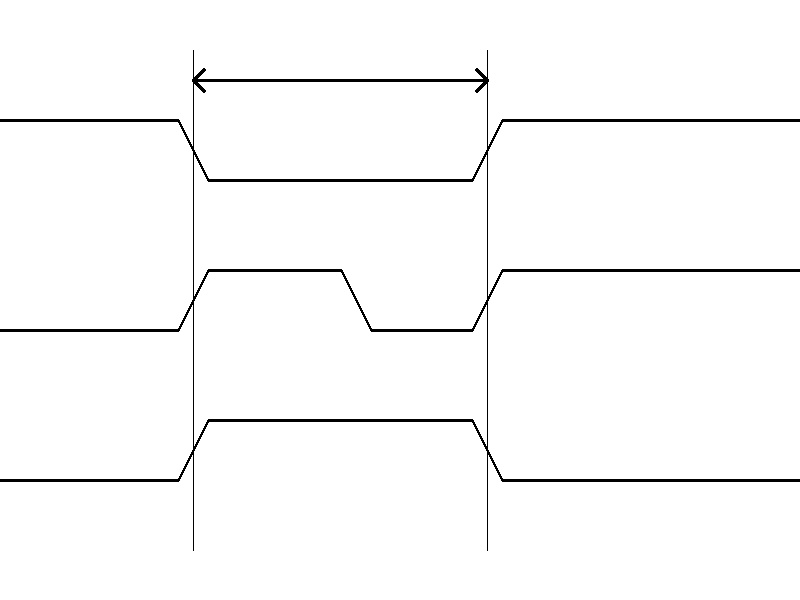double_arrow: (193, 65, 487, 95)
